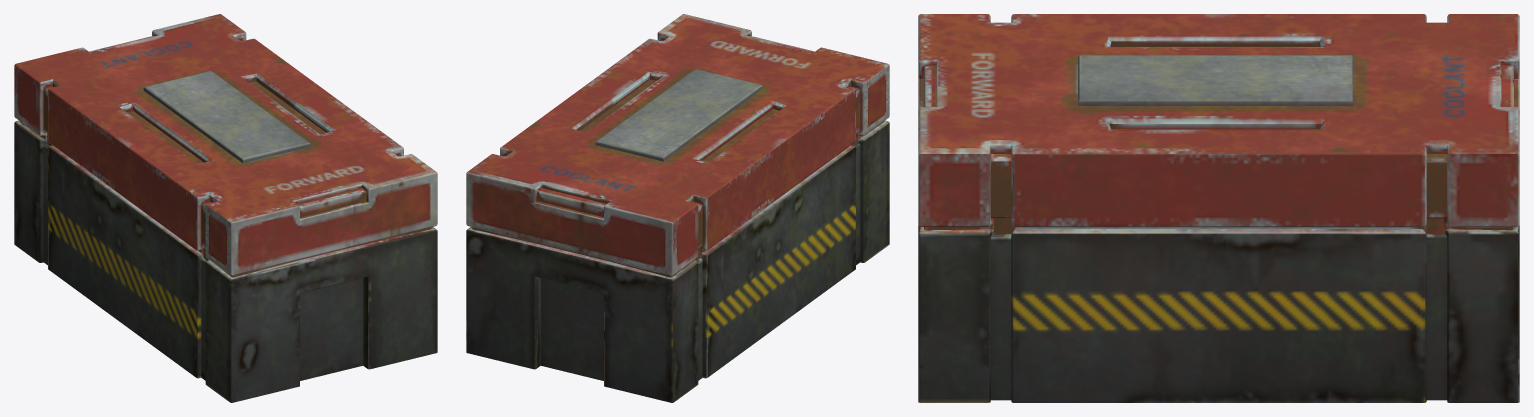
Rendered from SM_Crates_LP_pCube5.fbx.
The picture shows the model from 3 angles, left to right: view 1: azimuth 30°, elevation 25°; view 2: azimuth 150°, elevation 25°; view 3: azimuth 270°, elevation 25°; orthographic projection. The views are drawn at different scales.
Visible parts, largest first — view 1: SM_Crates_LP_pCube5_LOD0; view 2: SM_Crates_LP_pCube5_LOD0; view 3: SM_Crates_LP_pCube5_LOD0.
Part boxes in pixels (x1,y1,x2,y2): SM_Crates_LP_pCube5_LOD0: (14,14,437,402); SM_Crates_LP_pCube5_LOD0: (466,14,889,402); SM_Crates_LP_pCube5_LOD0: (918,14,1519,402).
Size of the model in its own units: 60 by 109 by 51.17.
1 material, 1 textured.
